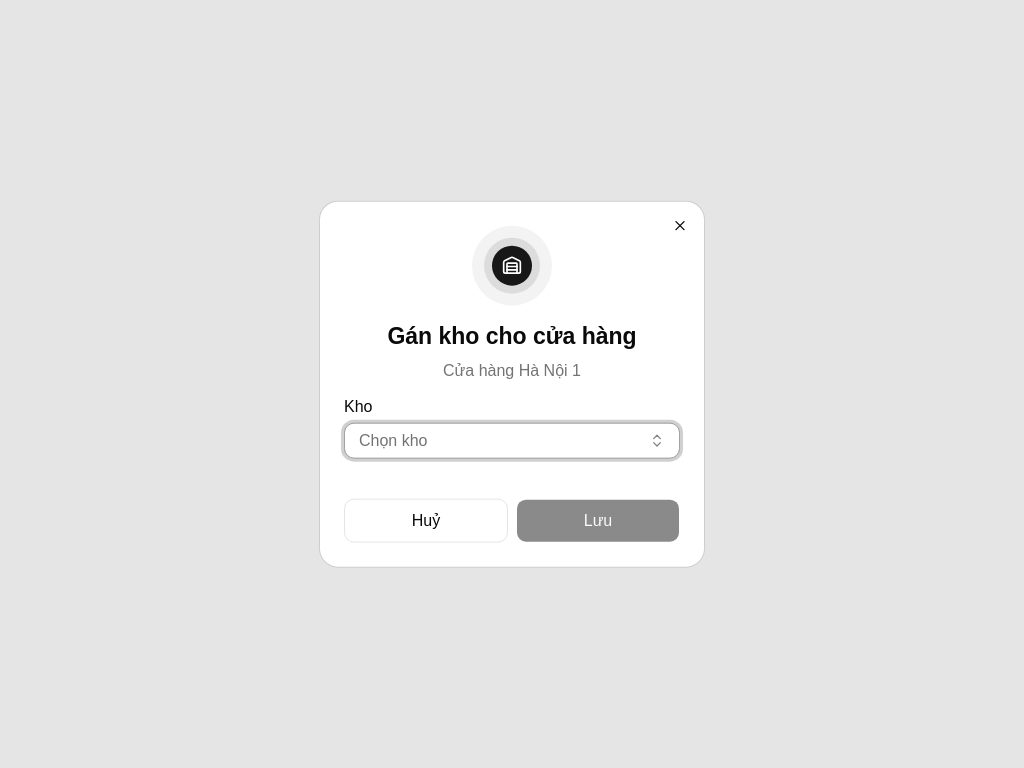
Test case: AssignStoreWarehouseDialog › chỉ liệt kê kho đang hoạt động VÀ chưa gán cho cửa hàng khác
Check: the text "Cửa hàng Hà Nội 1" is shown, box [443,358,581,382]
Click the dropdown: (393, 440) [344,422,680,458]
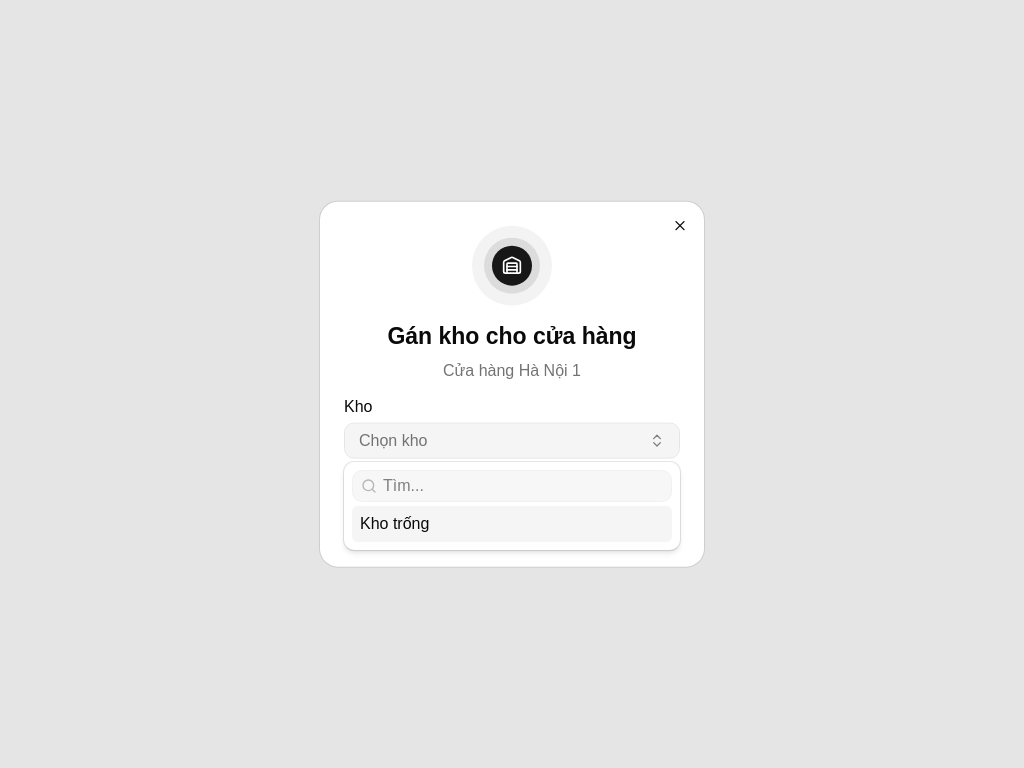
Check: the text "Kho trống" is shown, box [360,512,429,536]
